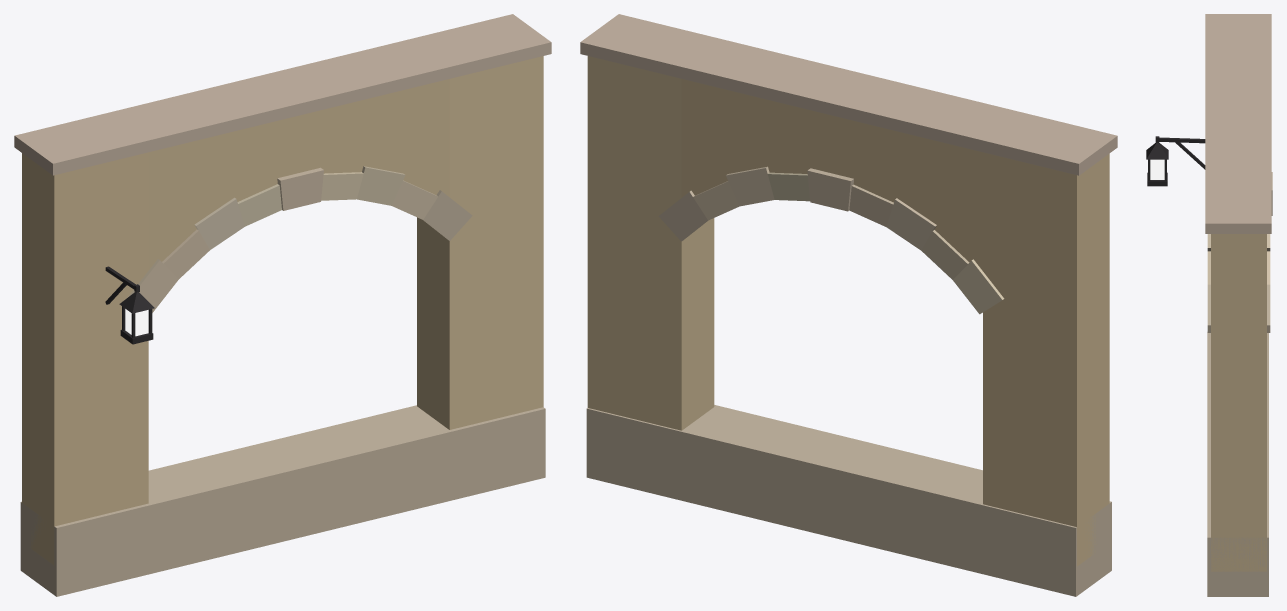
File: arco_rebajado_paso.glb
3 views of the same model, side by side, from view 1: azimuth 30°, elevation 25°; view 2: azimuth 150°, elevation 25°; view 3: azimuth 270°, elevation 25° (orthographic). The views are drawn at different scales.
Visible parts, largest first — view 1: arco_rebajado_paso_fijo; view 2: arco_rebajado_paso_fijo; view 3: arco_rebajado_paso_fijo.
Boxes of the visible parts, box(x1,y1,x2,y2) form: arco_rebajado_paso_fijo: box(14, 14, 551, 596); arco_rebajado_paso_fijo: box(580, 14, 1117, 596); arco_rebajado_paso_fijo: box(1146, 14, 1272, 596).
Bounding box in the file's own units: 5.3 × 4.42 × 1.35.
